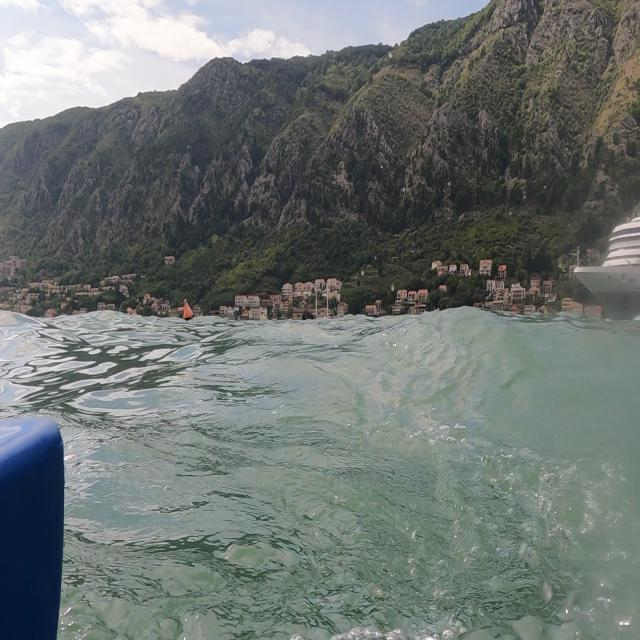boat: (570, 199, 640, 357)
buoy: (178, 293, 199, 331)
